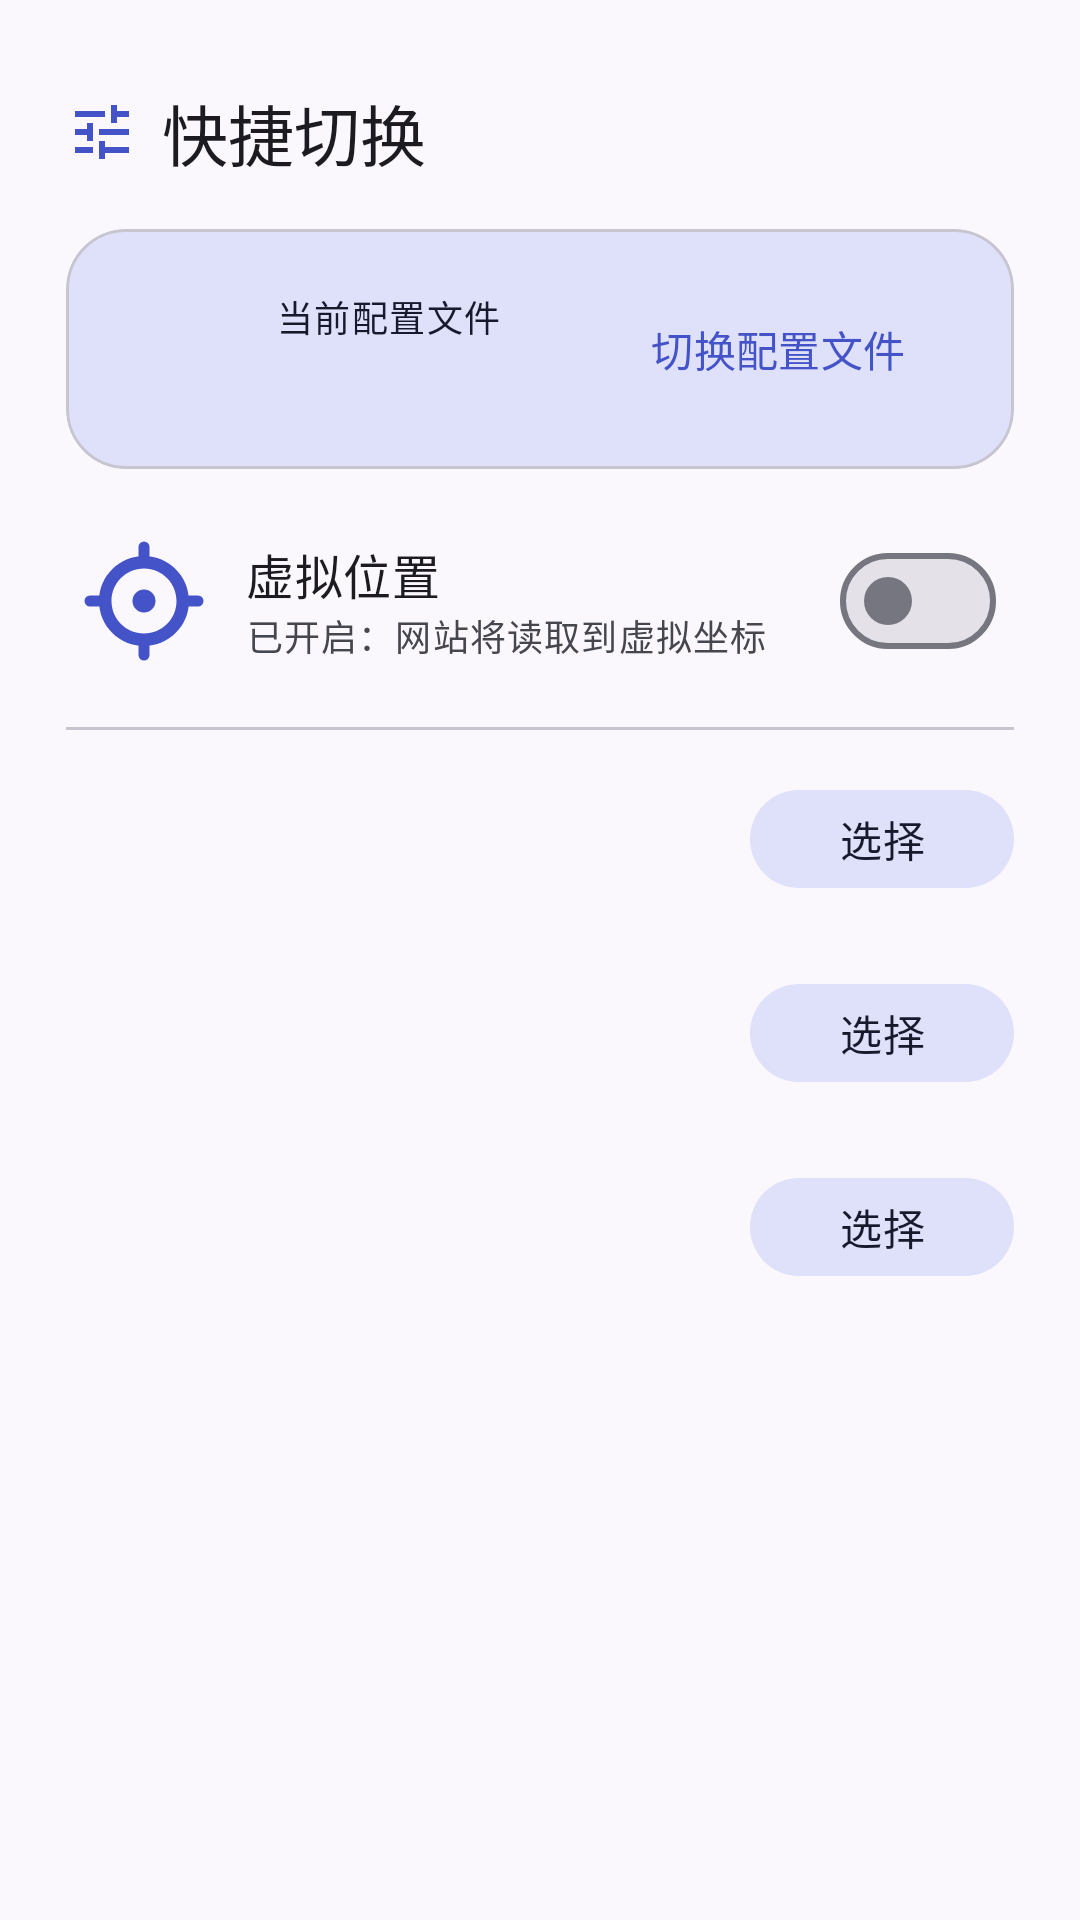

Screen size 1080*1920. Icon name, then its center in pixels as (x=x, y=y):
location: (x=144, y=601)
tune: (x=102, y=132)
